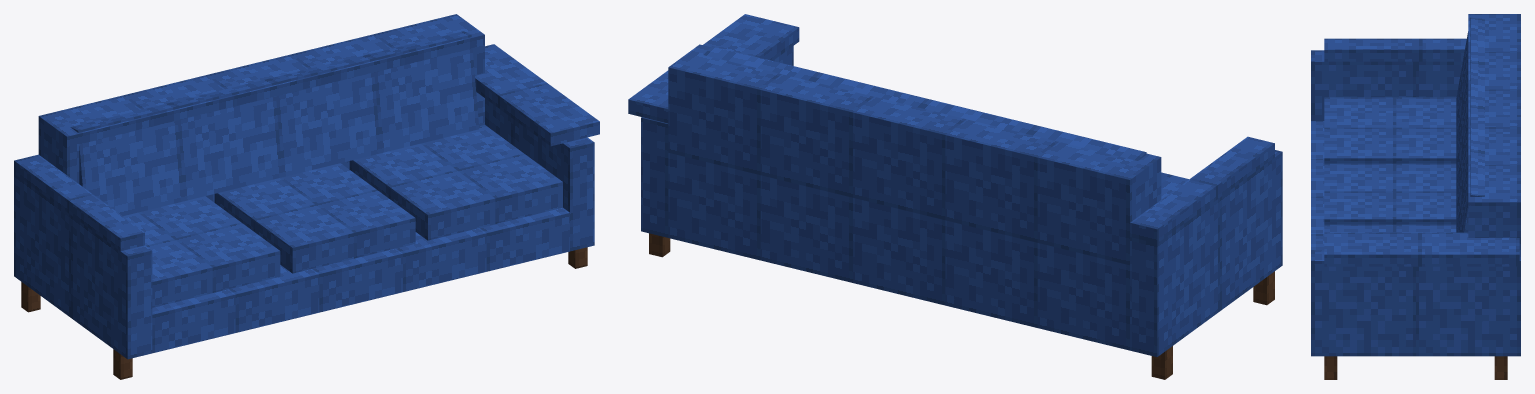
File: loungeCouchWide_3.glb
The picture shows the model from 3 angles, left to right: view 1: azimuth 30°, elevation 25°; view 2: azimuth 150°, elevation 25°; view 3: azimuth 270°, elevation 25°; orthographic projection. The views are drawn at different scales.
Parts seen in each view (by area): view 1: loungeCouchWide_3; view 2: loungeCouchWide_3; view 3: loungeCouchWide_3.
Part boxes in pixels (x1,y1,x2,y2): loungeCouchWide_3: (14,14,599,379); loungeCouchWide_3: (628,14,1282,379); loungeCouchWide_3: (1311,14,1520,379).
Size of the model in its own units: 2.44 by 0.886 by 1.
Materials: 1 (1 with a texture image).
